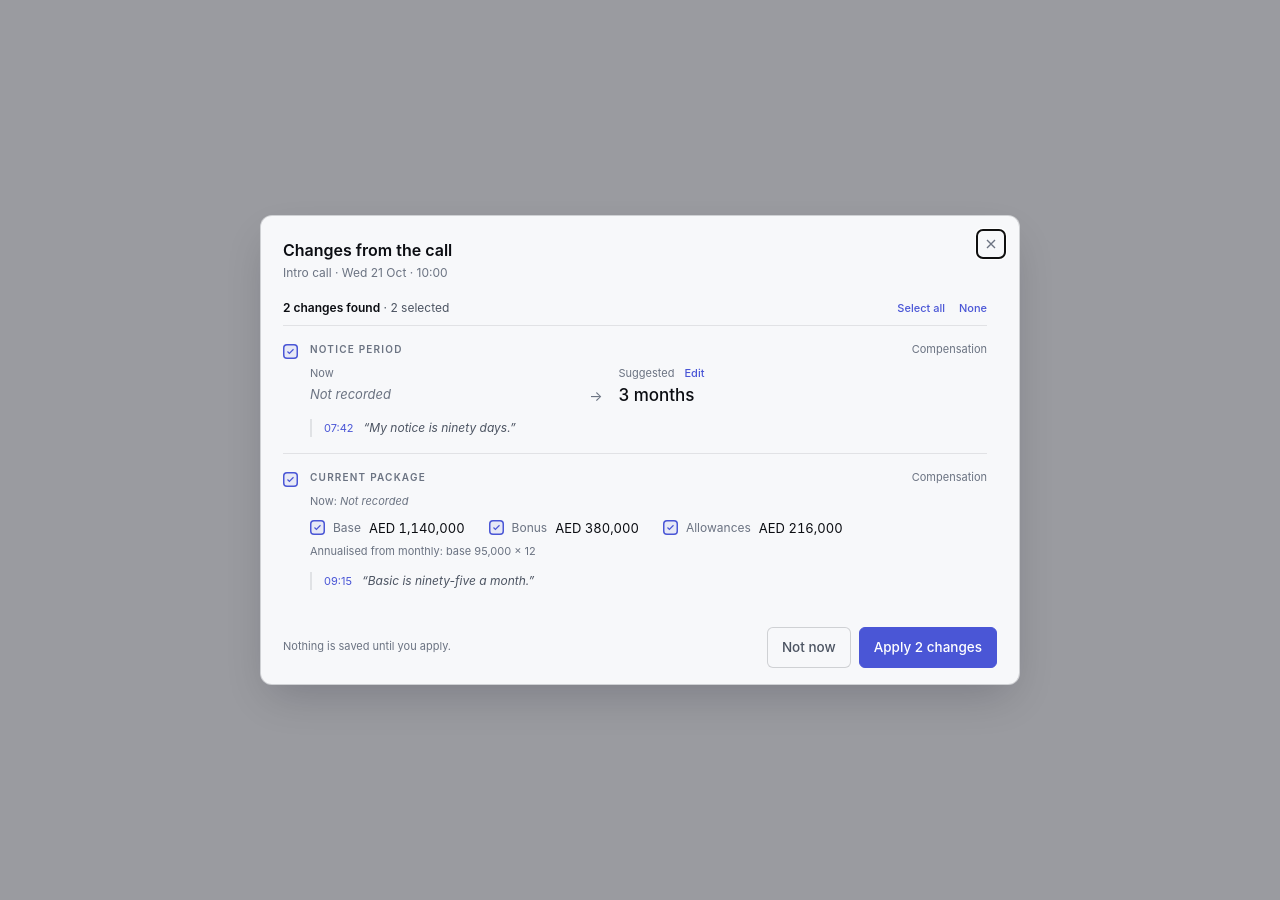
CallChangesDialog › saves every kept change in one request, as edited and with only the ticked figures, then closes
Click the button with aria-label "Edit notice period" at (694, 374), box [684,366,704,382]
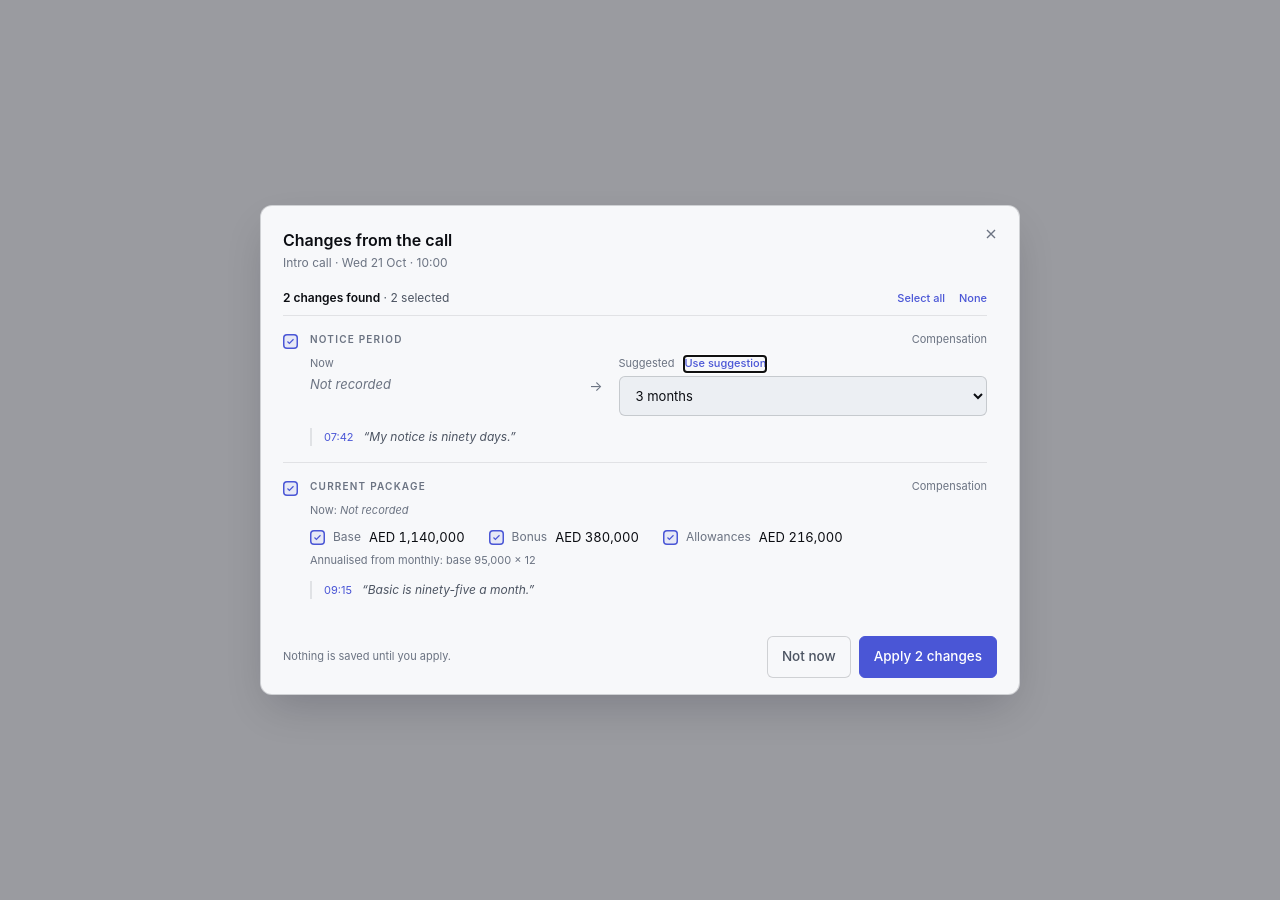
Select "2 months" in the dropdown named "Notice period" at (803, 396), box [618,376,987,416]
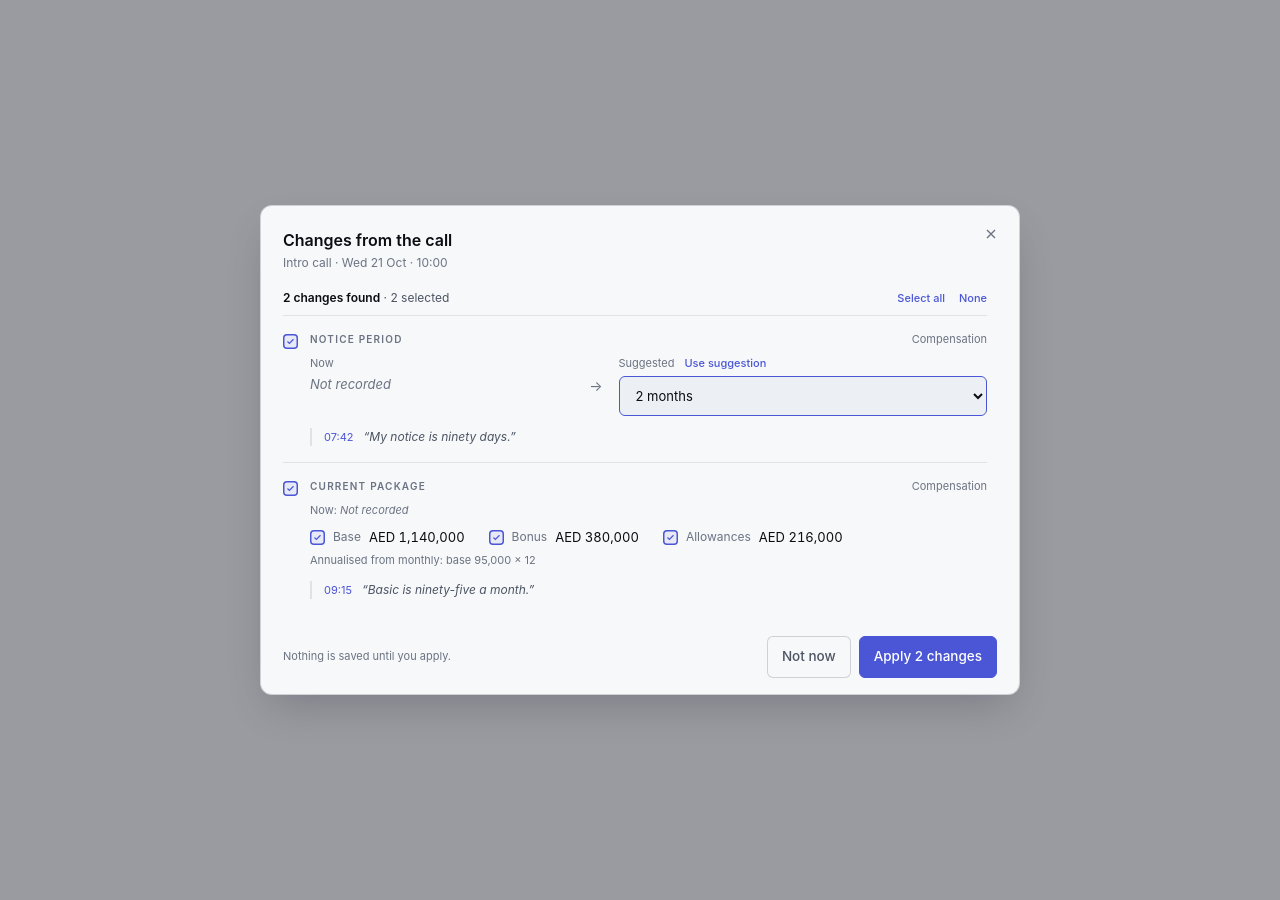
Click the 3rd checkbox labelled "Bonus" at (564, 537), box [489,527,639,547]
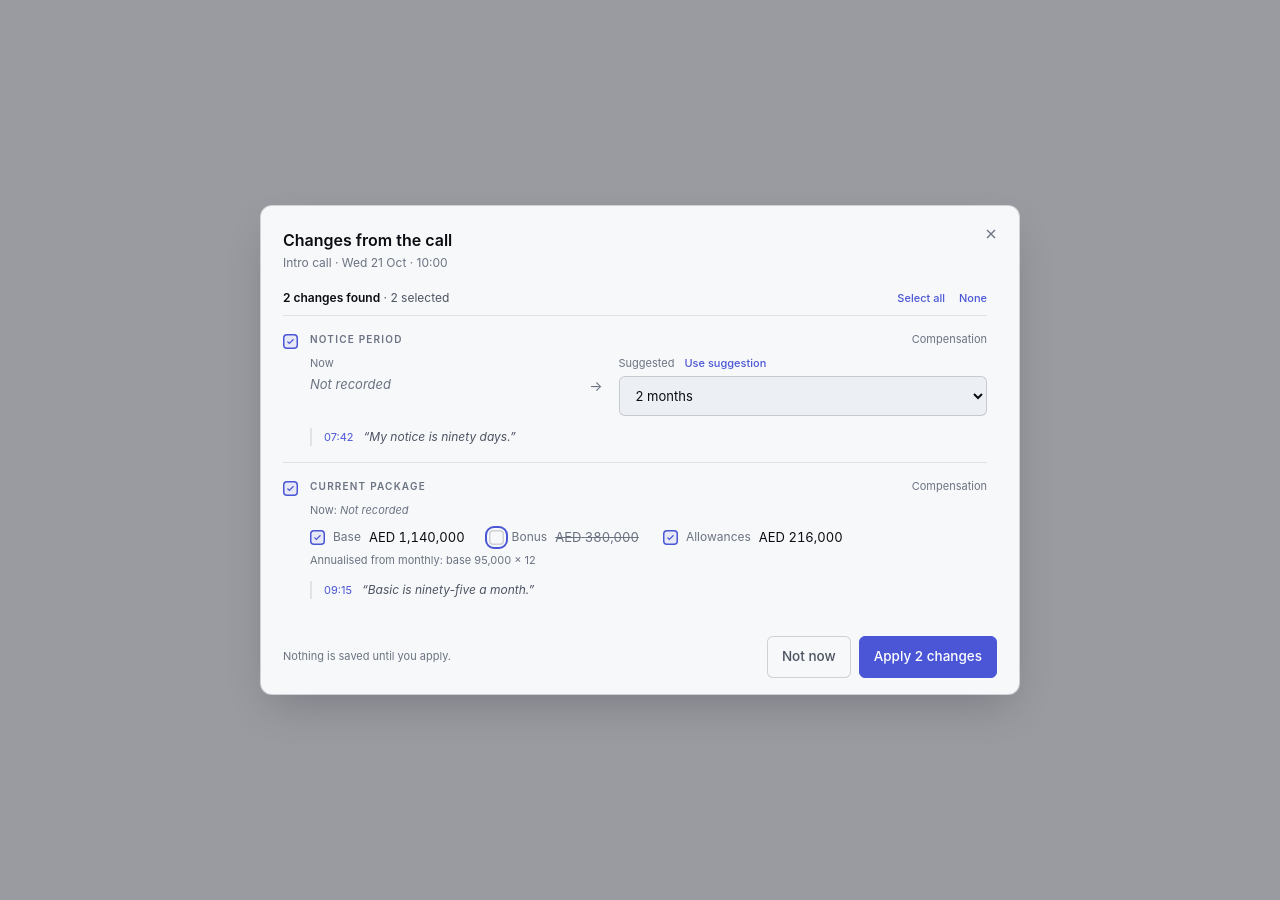
Click the button "Apply 2 changes" at (928, 657), box [859,636,997,678]
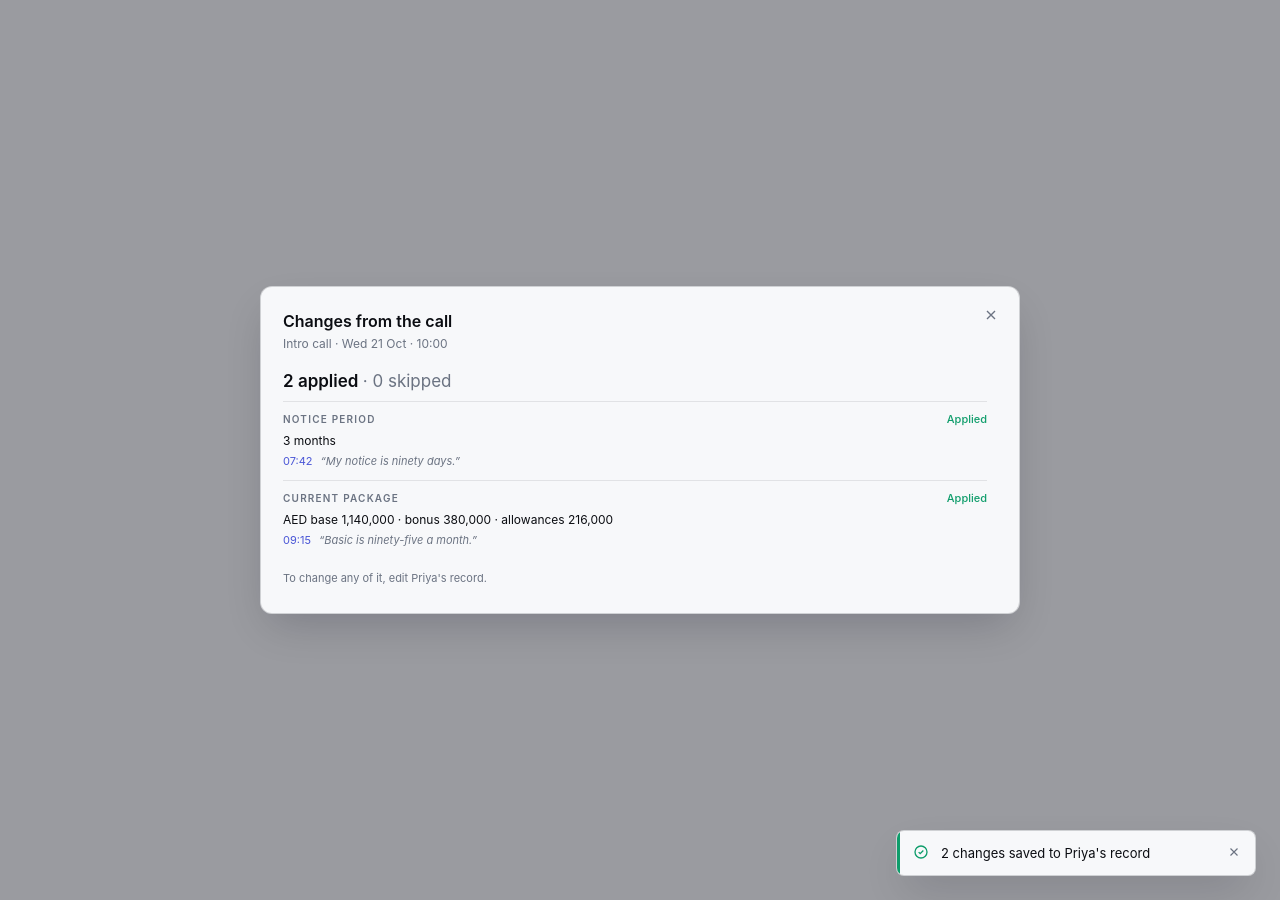
expect the text "2 changes saved to Priya's record" is shown: met, box [941,845,1150,861]
